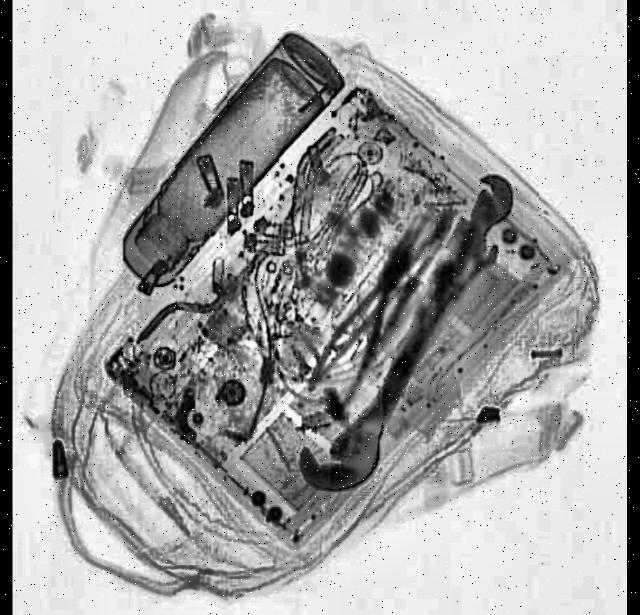Pliers: (304, 232, 445, 414), (337, 198, 468, 374)
Wrench: (292, 290, 460, 512), (412, 159, 526, 314)
